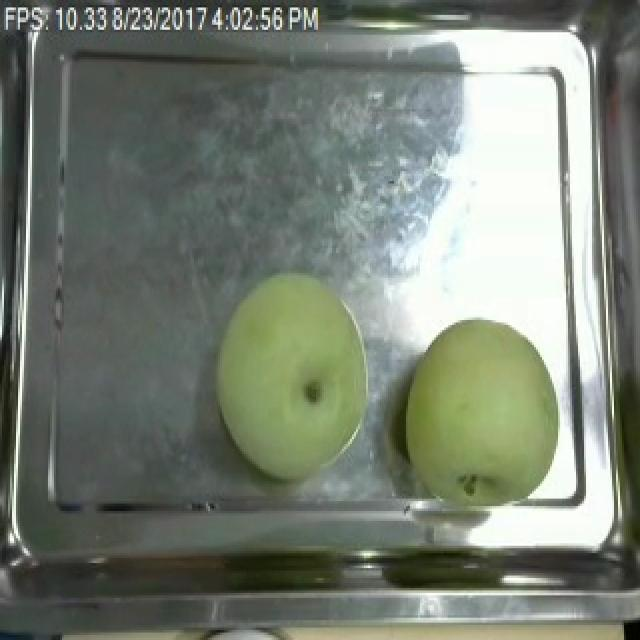50-_ripeness: (205, 260, 379, 490), (407, 318, 562, 512)
